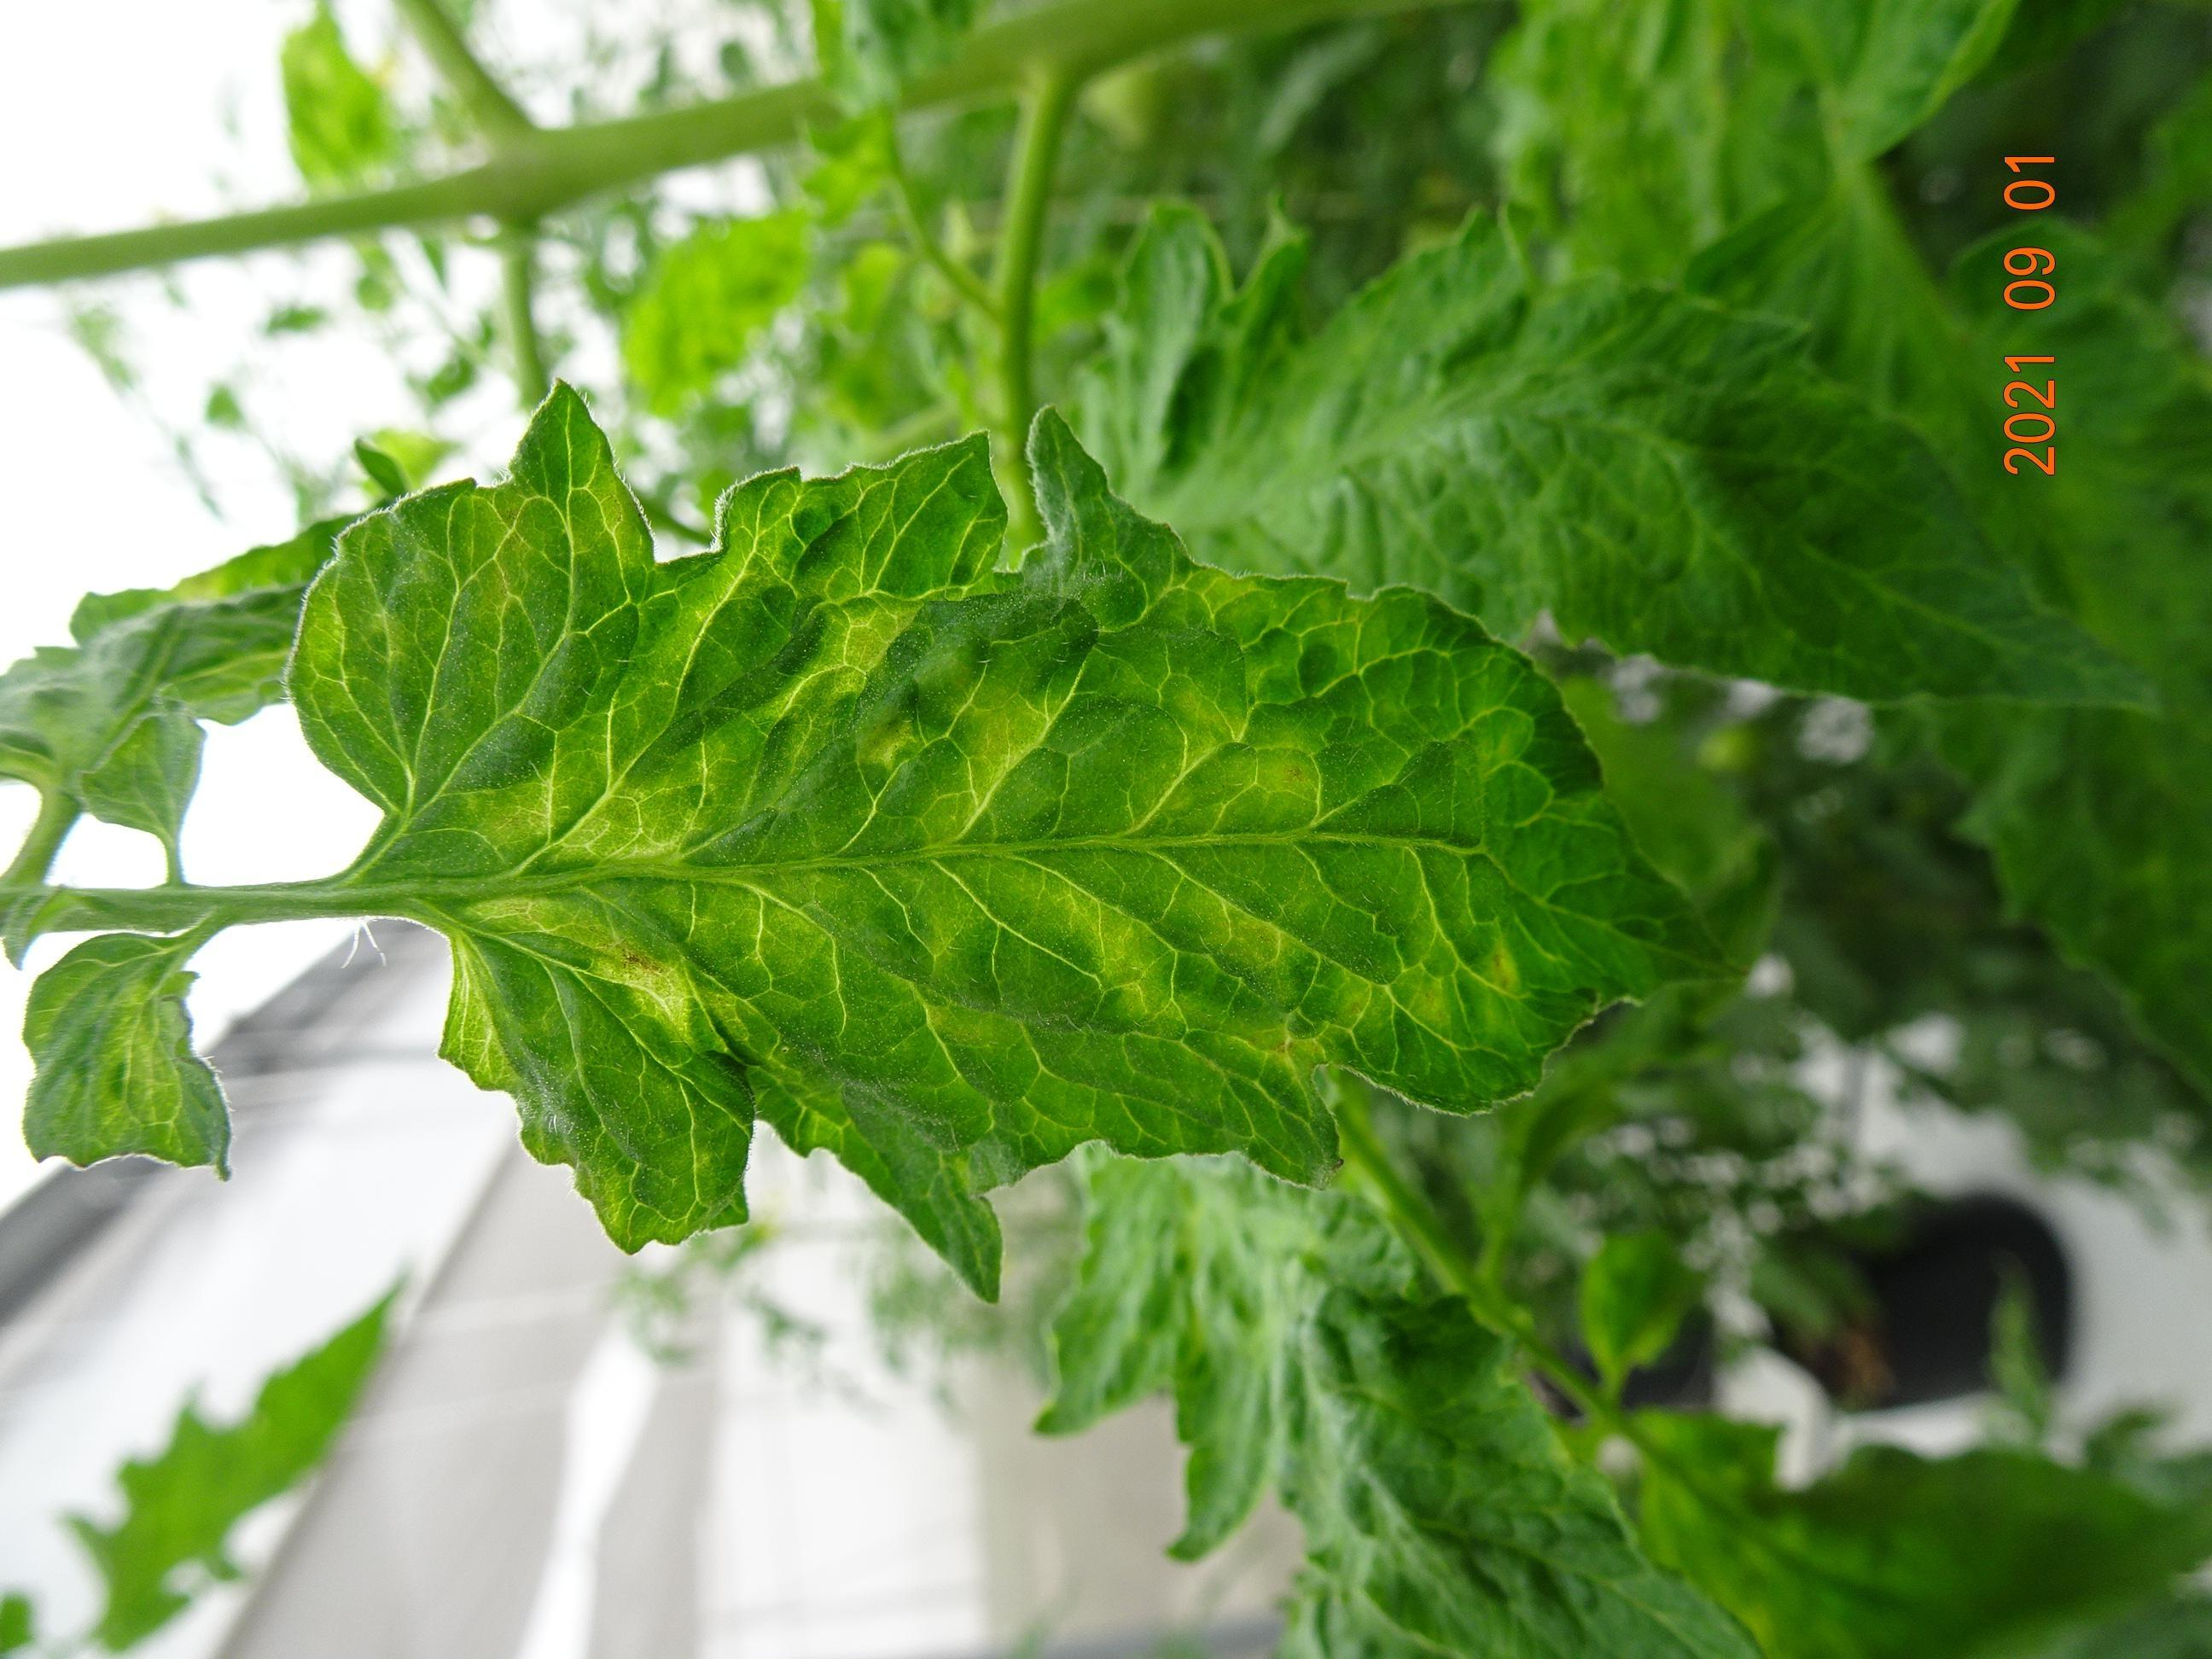Rugose leaf: (449, 418, 1707, 1288), (289, 394, 657, 885)
